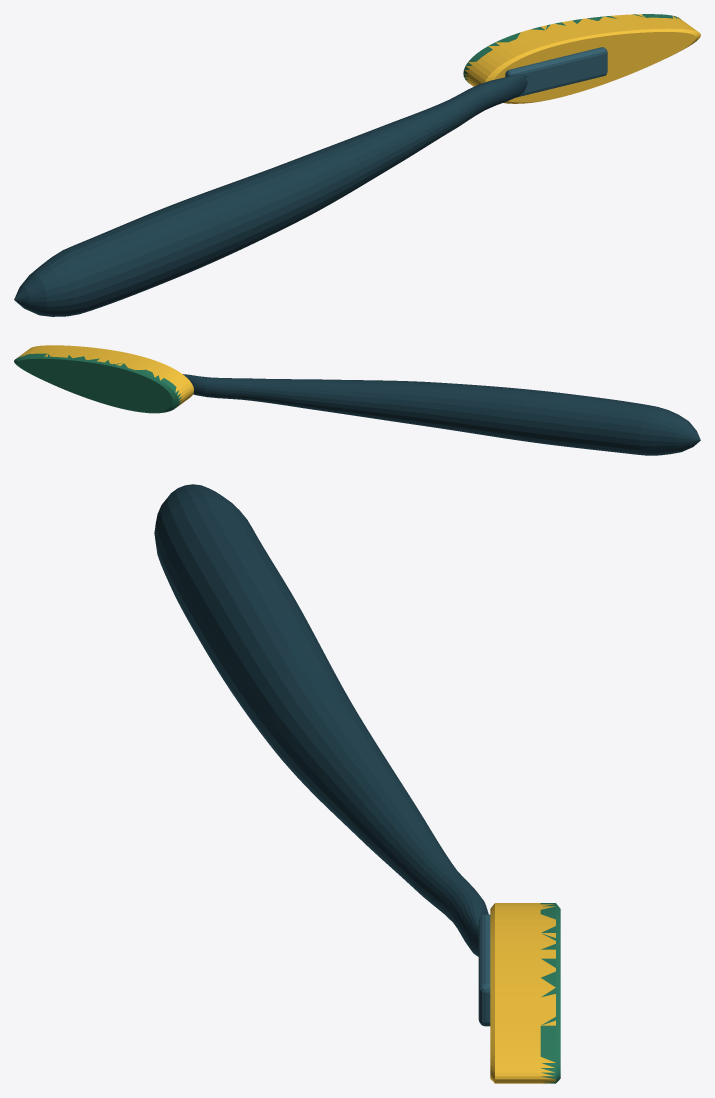
3 views of the same model, one above another, from view 1: azimuth 30°, elevation 25°; view 2: azimuth 150°, elevation 25°; view 3: azimuth 270°, elevation 25° (orthographic). The views are drawn at different scales.
Visible parts, largest first — view 1: geometry_0; view 2: geometry_0; view 3: geometry_0.
Part boxes in pixels (x1,y1,x2,y2): geometry_0: [14, 14, 700, 316]; geometry_0: [14, 345, 700, 455]; geometry_0: [154, 484, 560, 1083].
Size of the model in its own units: 0.235 by 0.0182 by 0.0693.
1 material, 1 textured.
